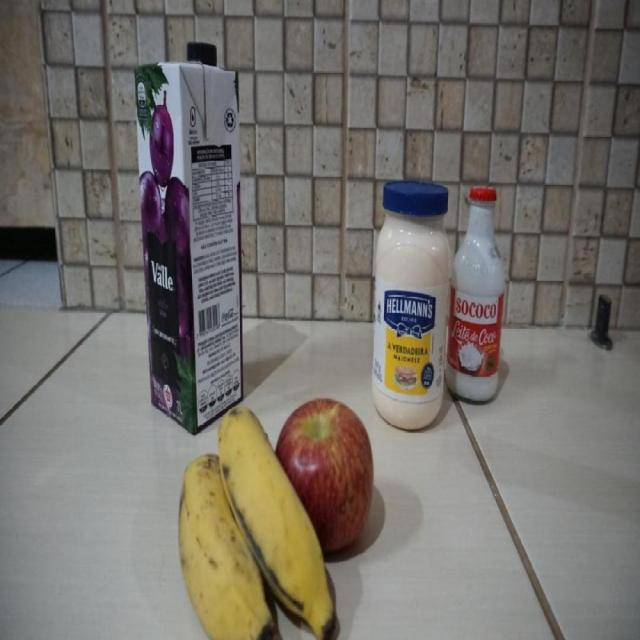Apple: (275, 400, 374, 553)
Banana: (179, 403, 335, 640)
CoconutMilk: (450, 186, 504, 401)
Mayonnaise: (370, 176, 450, 428)
